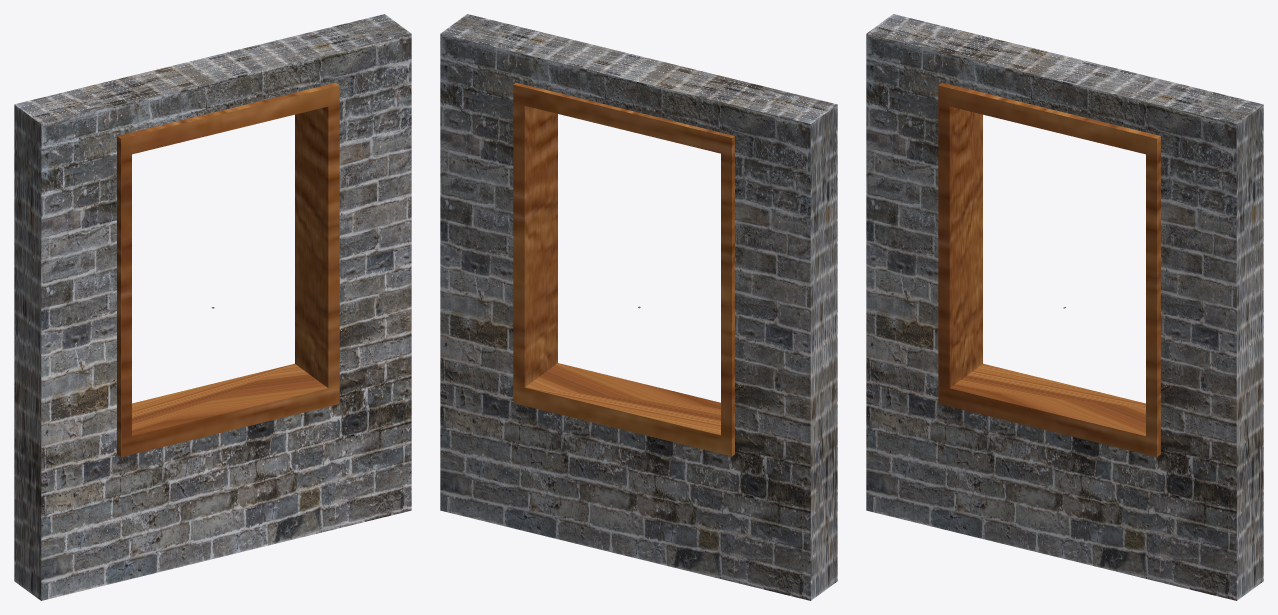
File: brick_wall_window.fbx
3 renders of one model, left to right at view 1: azimuth 30°, elevation 25°; view 2: azimuth 150°, elevation 25°; view 3: azimuth 330°, elevation 25°, orthographic.
Parts seen in each view (by area): view 1: brick_window, window_frame; view 2: brick_window, window_frame; view 3: brick_window, window_frame.
Part boxes in pixels (x1,y1,x2,y2): brick_window: (14, 14, 411, 600); window_frame: (117, 82, 339, 456); brick_window: (440, 14, 837, 600); window_frame: (513, 82, 734, 456); brick_window: (866, 14, 1263, 600); window_frame: (938, 82, 1160, 456).
Size of the model in its own units: 255 by 313 by 39.95.
Materials: 3 (3 with a texture image).
